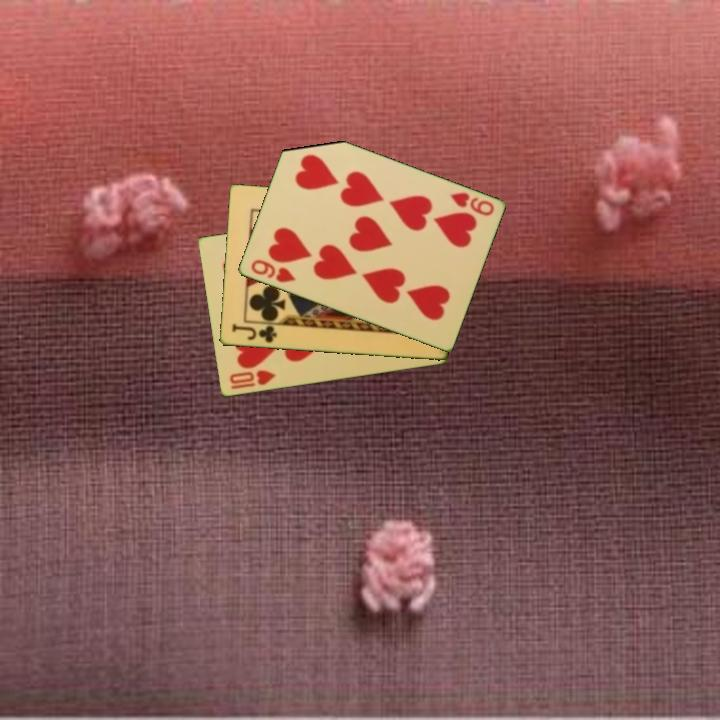10h: (226, 367, 279, 393)
9h: (247, 256, 298, 286), (446, 189, 497, 219)
Jc: (228, 321, 279, 346)
